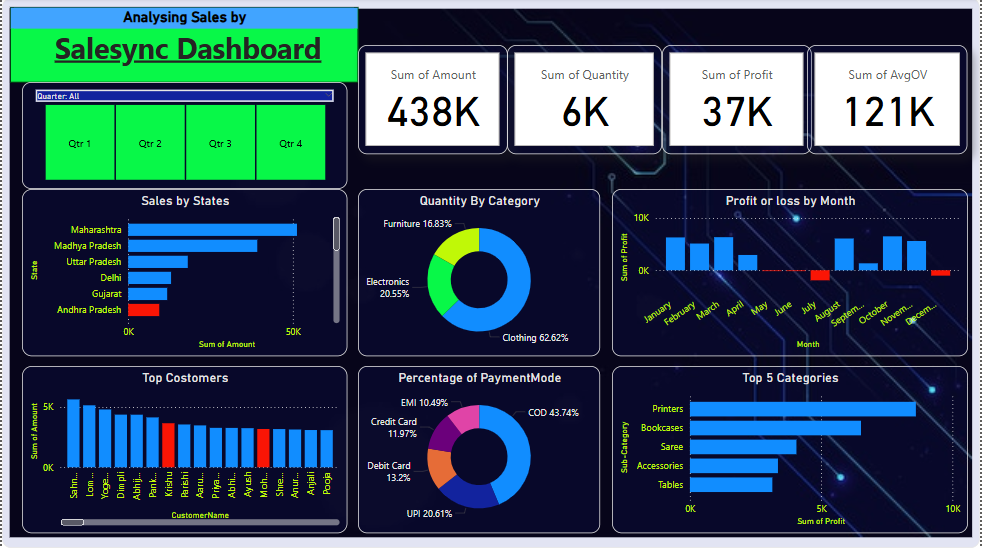

What the dashboard file says about the page in this screenshot:
{"tool":"powerbi","page":{"name":"Page 1","canvas":[1280,720],"ordinal":0},"visuals":[{"type":"image","box":[0,0,1280,720],"z":0},{"type":"textbox","title":"Analysing Sales by","box":[10,11.4,455.7,98.6],"z":1000},{"type":"lineClusteredColumnComboChart","title":" Profit or loss by Month","fields":{"Category":["Orders.Order Date.Variation.Date Hierarchy.Month"],"Y":["Products.Profit"]},"box":[798.6,250,465.7,218.6],"z":2000},{"type":"barChart","title":"Top 5 Categories","fields":{"Category":["Products.Sub-Category"],"Y":["Products.Profit"]},"box":[798.6,481.4,465.7,218.6],"z":3000},{"type":"donutChart","title":"Quantity By Category","fields":{"Category":["Products.Category"],"Y":["Products.Quantity"]},"box":[465.7,250,317.1,218.6],"z":4000},{"type":"pieChart","title":"Percentage  of PaymentMode","fields":{"Category":["Products.PaymentMode"],"Y":["Products.Quantity"]},"box":[465.7,481.4,317.1,218.6],"z":5000},{"type":"barChart","title":"Sales by States","fields":{"Category":["Orders.State"],"Y":["Products.Amount"]},"box":[25.7,250,425.7,218.6],"z":6000},{"type":"columnChart","title":" Top Costomers","fields":{"Y":["Products.Amount"],"Category":["Orders.CustomerName"]},"box":[25.7,481.4,425.7,218.6],"z":7000},{"type":"cardVisual","fields":{"Data":["Products.Amount"]},"box":[465.7,61.4,195.7,142.9],"z":8000},{"type":"cardVisual","fields":{"Data":["Products.Quantity"]},"box":[661.4,61.4,202.9,142.9],"z":9000},{"type":"cardVisual","fields":{"Data":["Products.Profit"]},"box":[864.3,61.4,195.7,142.9],"z":10000},{"type":"cardVisual","fields":{"Data":["Products.AvgOV"]},"box":[1054.3,61.4,210,142.9],"z":11000},{"type":"slicer","fields":{"Values":["Orders.Order Date.Variation.Date Hierarchy.Quarter"]},"box":[25.7,110,425.7,140],"z":12000}]}

Visuals, with their boxes in screenshot pixels (x1, y1, x2, y2), scaled from the page's 1280x720 canvas onto the 982x548 screenshot:
image: 0 0 981 547
"Analysing Sales by" textbox: 8 9 357 84
" Profit or loss by Month" lineClusteredColumnComboChart: 613 190 970 357
"Top 5 Categories" barChart: 613 366 970 533
"Quantity By Category" donutChart: 357 190 601 357
"Percentage  of PaymentMode" pieChart: 357 366 601 533
"Sales by States" barChart: 20 190 346 357
" Top Costomers" columnChart: 20 366 346 533
cardVisual - Products.Amount: 357 47 507 155
cardVisual - Products.Quantity: 507 47 663 155
cardVisual - Products.Profit: 663 47 813 155
cardVisual - Products.AvgOV: 809 47 970 155
slicer - Orders.Order Date.Variation.Date Hierarchy.Quarter: 20 84 346 190
